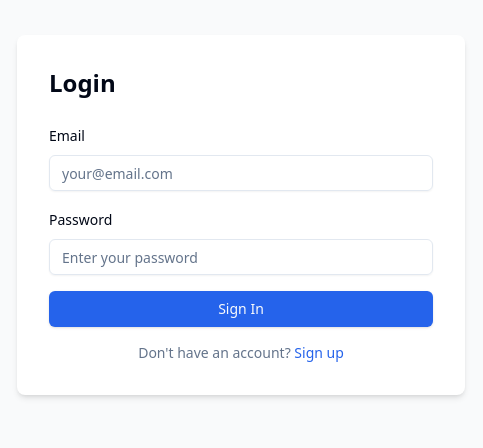
Login › handles login error
Step 1. Type "test@example.com" into the field labelled "Email" → (241, 173), box [49,155,433,191]
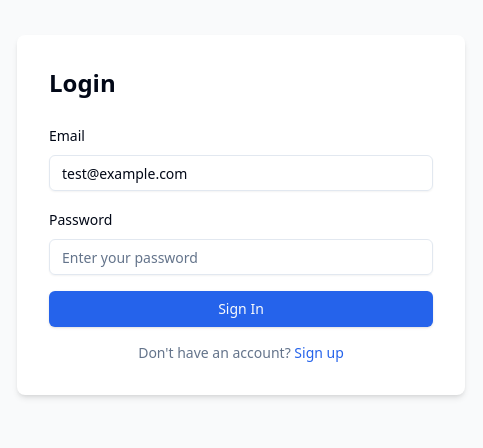
Step 2. Type "password123" into the password field labelled "Password" → (241, 257), box [49,239,433,275]
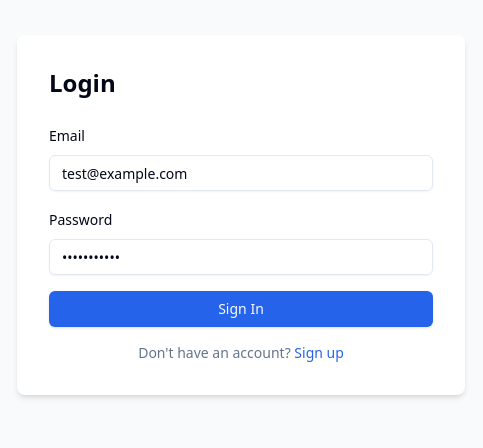
Step 3. Click the button "Sign In" → (241, 309), box [49,291,433,327]
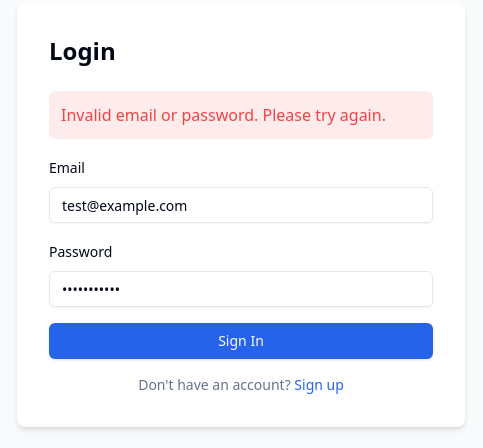
Expected: the text "Invalid email or password. Please try again." is shown, [49,91,433,139]
